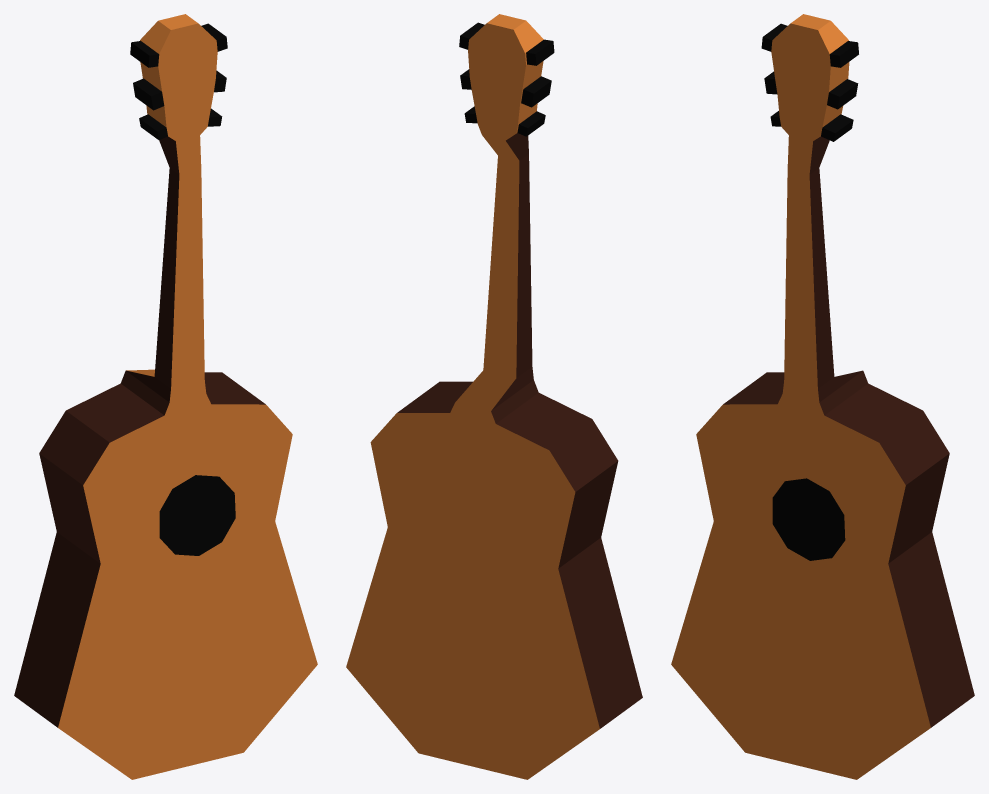
The model's file is Guitar.fbx.
The picture shows the model from 3 angles, left to right: view 1: azimuth 30°, elevation 25°; view 2: azimuth 150°, elevation 25°; view 3: azimuth 330°, elevation 25°; orthographic projection. The views are drawn at different scales.
Visible parts, largest first — view 1: Guitar; view 2: Guitar; view 3: Guitar.
Boxes of the visible parts, x1,y1,x2,y2 form: Guitar: (14,14,317,779); Guitar: (346,14,642,779); Guitar: (671,14,974,779).
Bounding box in the file's own units: 67.66 × 183 × 20.89.
